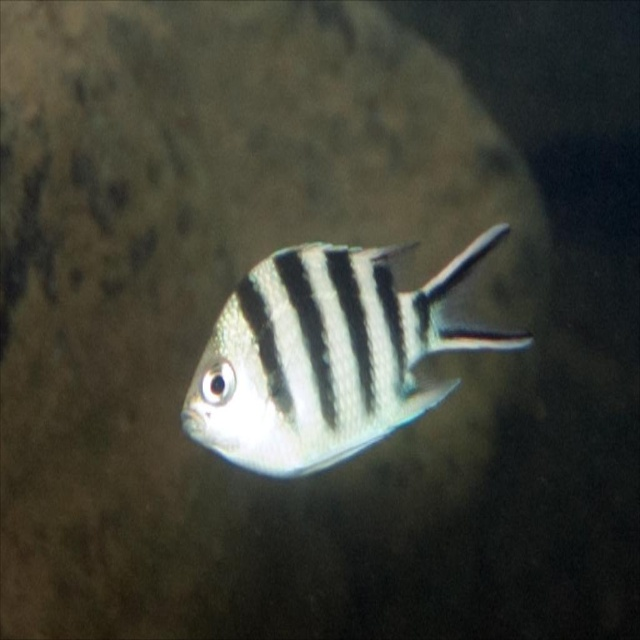Fish: (181, 212, 547, 492)
